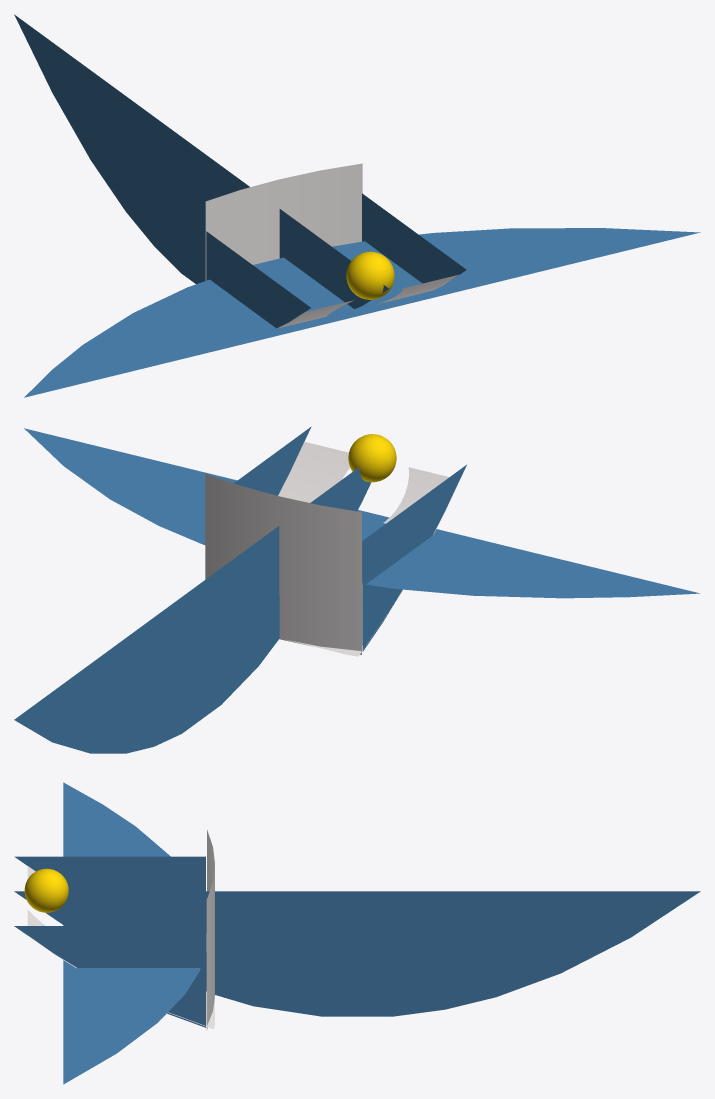
File: Bbox.gltf
3 renders of one model, top to bottom at view 1: azimuth 30°, elevation 25°; view 2: azimuth 150°, elevation 25°; view 3: azimuth 270°, elevation 25°, orthographic. The views are drawn at different scales.
Visible parts, largest first — view 1: Object32, Object47, Object27, Object30, Object48, Object29, Object28; view 2: Object47, Object32, Object27, Object30, Object28, Object48, Object29; view 3: Object47, Object32, Object48, Object30, Object29, Object27, Object28.
Boxes of the visible parts, x1=… form: Object32: x1=24, y1=228, x2=700, y2=397; Object47: x1=14, y1=14, x2=388, y2=309; Object27: x1=205, y1=163, x2=362, y2=280; Object30: x1=206, y1=231, x2=310, y2=328; Object48: x1=362, y1=193, x2=466, y2=283; Object29: x1=346, y1=251, x2=394, y2=299; Object28: x1=277, y1=274, x2=458, y2=328; Object47: x1=14, y1=467, x2=371, y2=753; Object32: x1=24, y1=428, x2=700, y2=598; Object27: x1=205, y1=474, x2=361, y2=654; Object30: x1=362, y1=465, x2=466, y2=651; Object28: x1=278, y1=441, x2=459, y2=656; Object48: x1=234, y1=426, x2=311, y2=495; Object29: x1=348, y1=434, x2=396, y2=482; Object47: x1=14, y1=891, x2=700, y2=1016; Object32: x1=63, y1=782, x2=206, y2=1084; Object48: x1=14, y1=926, x2=205, y2=1027; Object30: x1=14, y1=856, x2=205, y2=891; Object29: x1=24, y1=868, x2=68, y2=912; Object27: x1=206, y1=830, x2=214, y2=1030; Object28: x1=27, y1=866, x2=214, y2=1029.
Bounding box in the file's own units: 1.49 × 0.3494 × 1.43.
